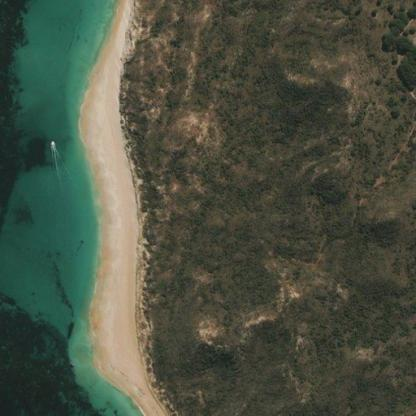ship: (50, 123, 53, 126)
